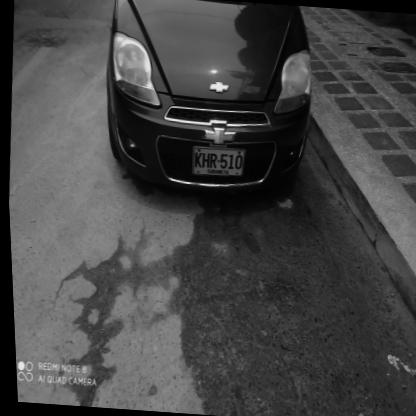placa: (188, 144, 246, 184)
